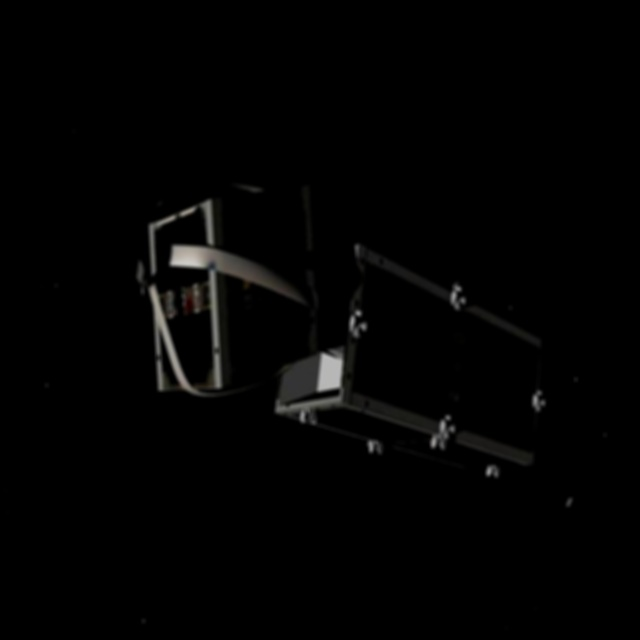medium_debris: (123, 169, 555, 475)
